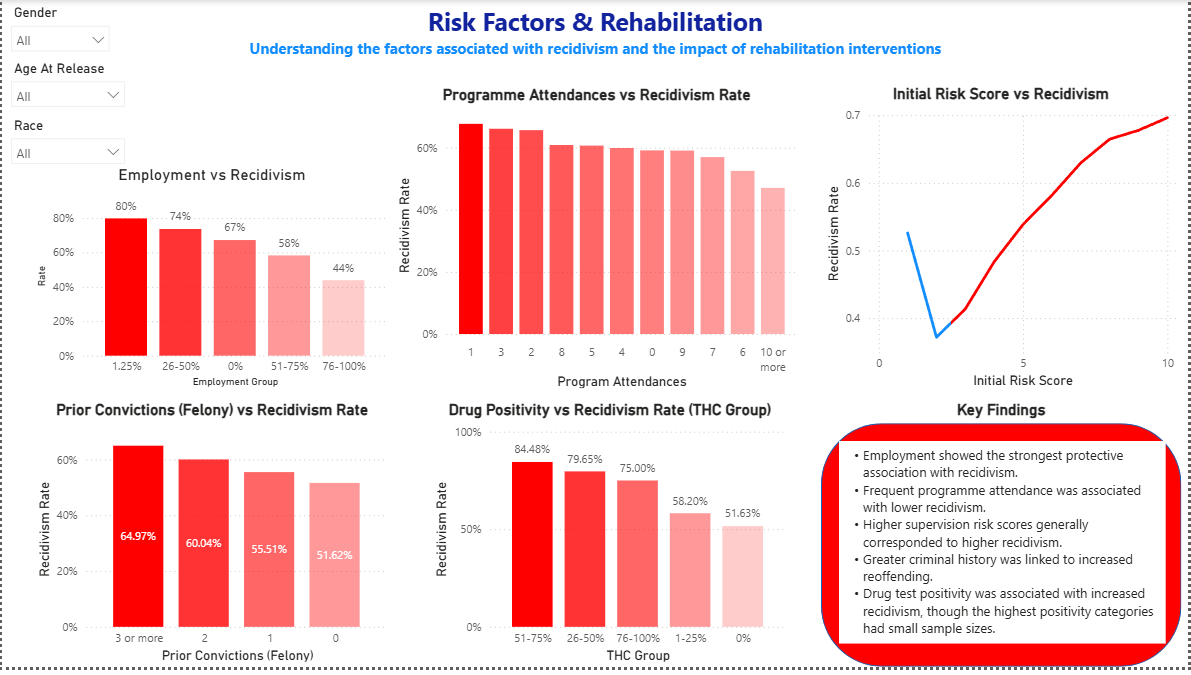

The dashboard page shown, as its layout file describes it:
{"tool":"powerbi","page":{"name":"Risk Factors & Rehabilitation","canvas":[1280,720],"ordinal":1},"visuals":[{"type":"shape","title":"Key Findings","box":[884,433,389,287],"z":0},{"type":"textbox","box":[202.4,0,876,71.2],"z":1000},{"type":"columnChart","title":"Employment vs Recidivism","fields":{"Y":["Cleaned Data.Rehab Employment Recidivism Rate"],"Category":["Cleaned Data.Employment Group"]},"box":[32.4,178.1,388.6,244.5],"z":2000},{"type":"columnChart","title":"Programme Attendances vs Recidivism Rate","fields":{"Category":["Cleaned Data.Program Attendances"],"Y":["Cleaned Data.Rehab Programme Recidivism Rate"]},"box":[421,92.3,442,331.9],"z":3000},{"type":"lineChart","title":"Initial Risk Score vs  Recidivism","fields":{"Category":["Cleaned Data.Supervision Risk Score First"],"Y":["Cleaned Data.Rehab Risk Score Recidivism Rate"]},"box":[884.1,90.7,388.6,331.9],"z":4000},{"type":"columnChart","title":"Prior Convictions (Felony) vs Recidivism Rate","fields":{"Category":["Cleaned Data.Prior Conviction Episodes Felony"],"Y":["Cleaned Data.Rehab Prior Convictions Felony Recidivism Rate"]},"box":[32,433,389,287],"z":5000},{"type":"columnChart","title":"Drug Positivity vs Recidivism Rate (THC Group)","fields":{"Category":["Cleaned Data.THC Group"],"Y":["Cleaned Data.Rehab Programme Recidivism Rate"]},"box":[461,433,389,287],"z":6000},{"type":"textbox","box":[903.5,476.1,353,218.6],"z":7000},{"type":"slicer","fields":{"Values":["Cleaned Data.Gender"]},"box":[0,0,126.3,71.2],"z":8000},{"type":"slicer","fields":{"Values":["Cleaned Data.Age At Release"]},"box":[0,59.9,142.5,61.5],"z":9000},{"type":"slicer","fields":{"Values":["Cleaned Data.Race"]},"box":[0,121.4,142.5,56.7],"z":10000}]}

Visuals, with their boxes in screenshot pixels (x1, y1, x2, y2), scaled from the page's 1280x720 canvas onto the 1191x675 screenshot:
"Key Findings" shape: {"x1": 823, "y1": 406, "x2": 1184, "y2": 674}
textbox: {"x1": 188, "y1": 0, "x2": 1003, "y2": 67}
"Employment vs Recidivism" columnChart: {"x1": 30, "y1": 167, "x2": 392, "y2": 396}
"Programme Attendances vs Recidivism Rate" columnChart: {"x1": 392, "y1": 87, "x2": 803, "y2": 398}
"Initial Risk Score vs  Recidivism" lineChart: {"x1": 823, "y1": 85, "x2": 1184, "y2": 396}
"Prior Convictions (Felony) vs Recidivism Rate" columnChart: {"x1": 30, "y1": 406, "x2": 392, "y2": 674}
"Drug Positivity vs Recidivism Rate (THC Group)" columnChart: {"x1": 429, "y1": 406, "x2": 791, "y2": 674}
textbox: {"x1": 841, "y1": 446, "x2": 1169, "y2": 651}
slicer - Cleaned Data.Gender: {"x1": 0, "y1": 0, "x2": 118, "y2": 67}
slicer - Cleaned Data.Age At Release: {"x1": 0, "y1": 56, "x2": 133, "y2": 114}
slicer - Cleaned Data.Race: {"x1": 0, "y1": 114, "x2": 133, "y2": 167}
